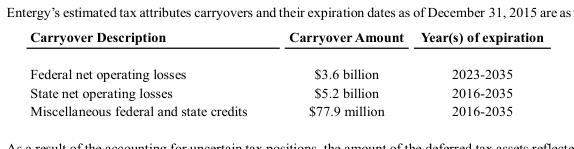table: (29, 28, 543, 118)
table column: (29, 28, 267, 118), (267, 28, 411, 118), (411, 28, 543, 118)
table column header: (29, 28, 543, 54)
table row: (29, 54, 543, 82), (29, 28, 543, 54), (29, 82, 543, 101), (29, 101, 543, 118)
